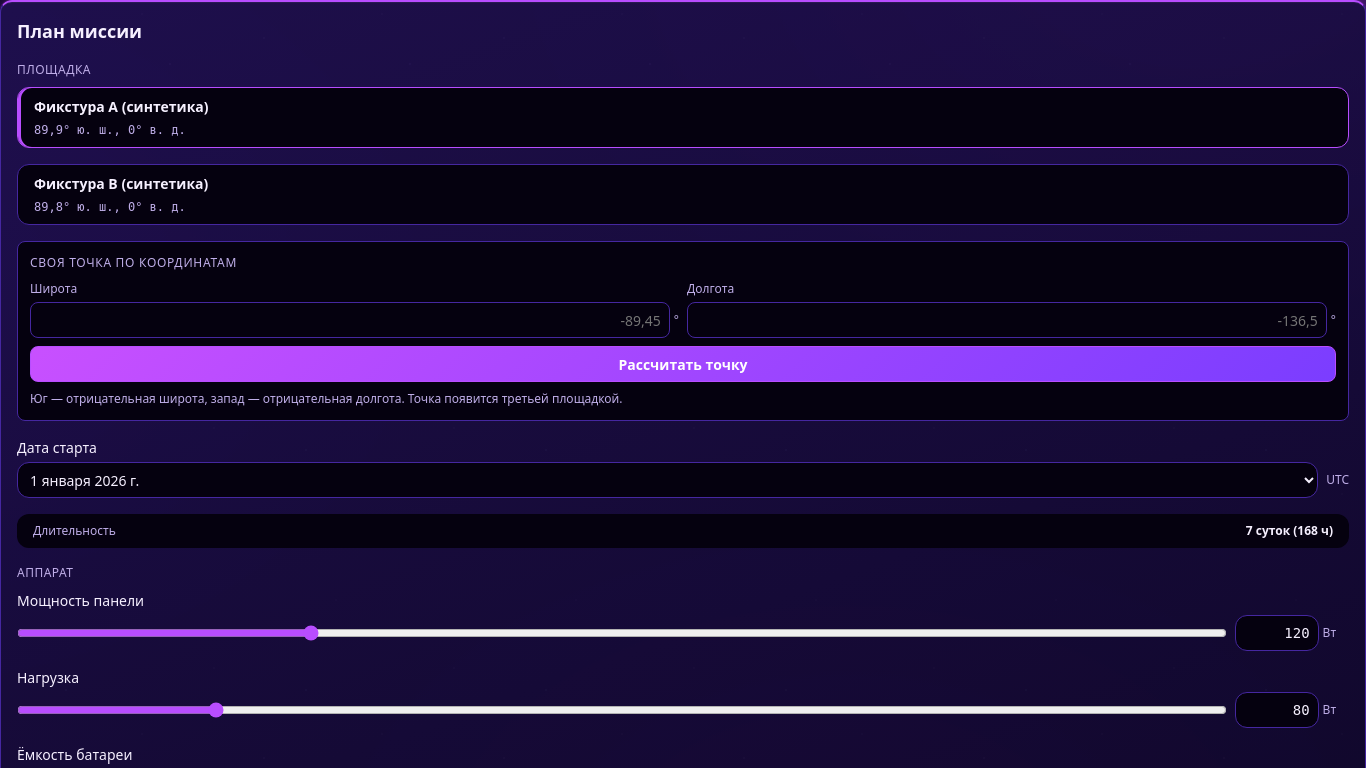
Test: custom point by coordinates › explains a point outside the terrain coverage
The image size is (1366, 768).
Type "10" into the field labelled "Широта" at x=350, y=320, box x1=30 y1=302 x2=670 y2=338
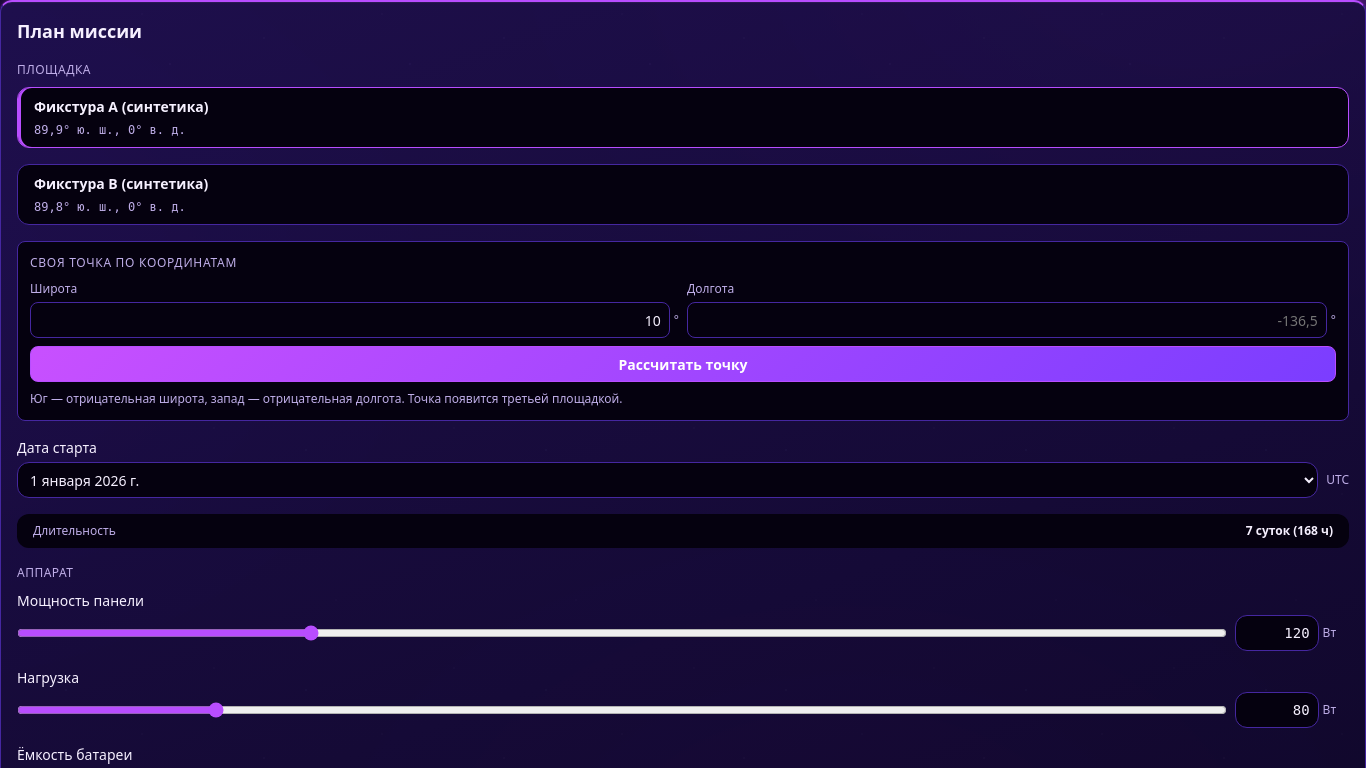
Type "20" into the field labelled "Долгота" at x=1007, y=320, box x1=687 y1=302 x2=1327 y2=338
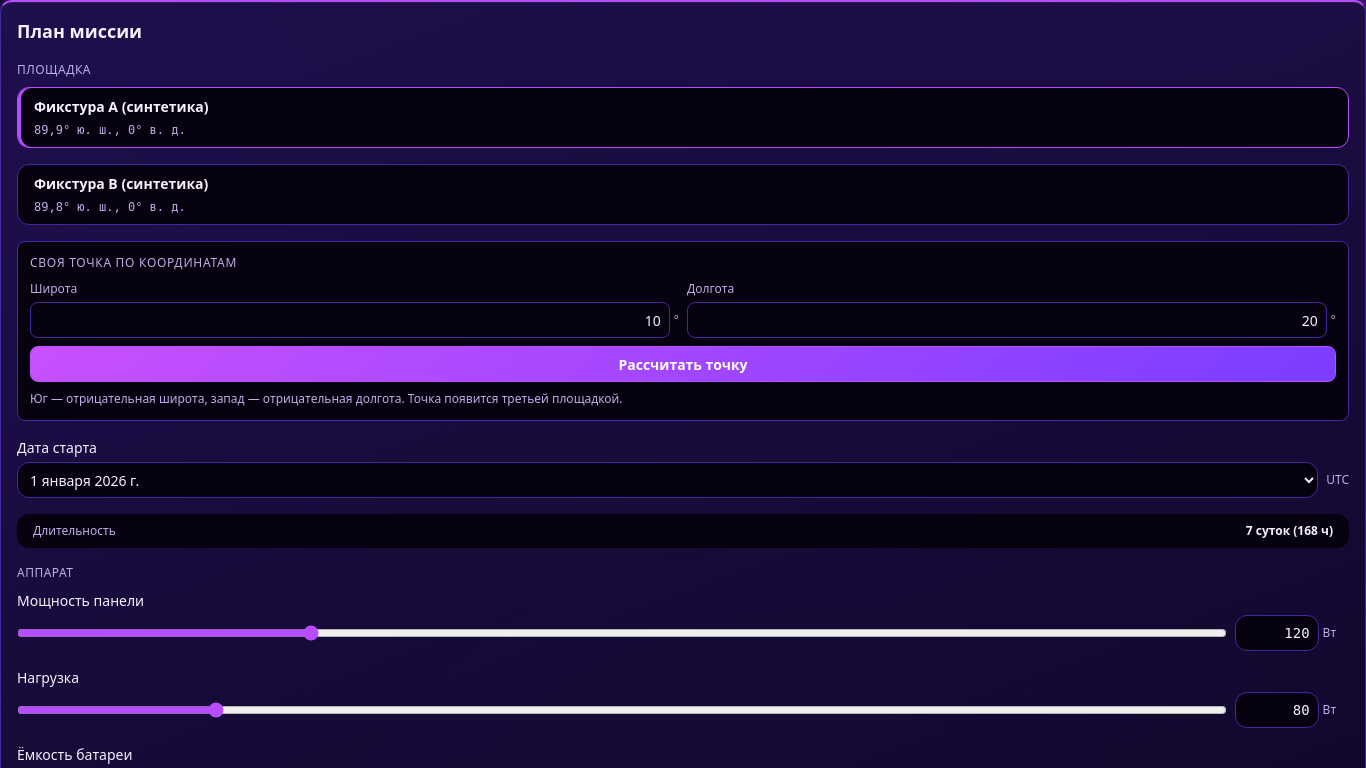
Click the button "Рассчитать точку" at x=683, y=364, box x1=30 y1=346 x2=1336 y2=382
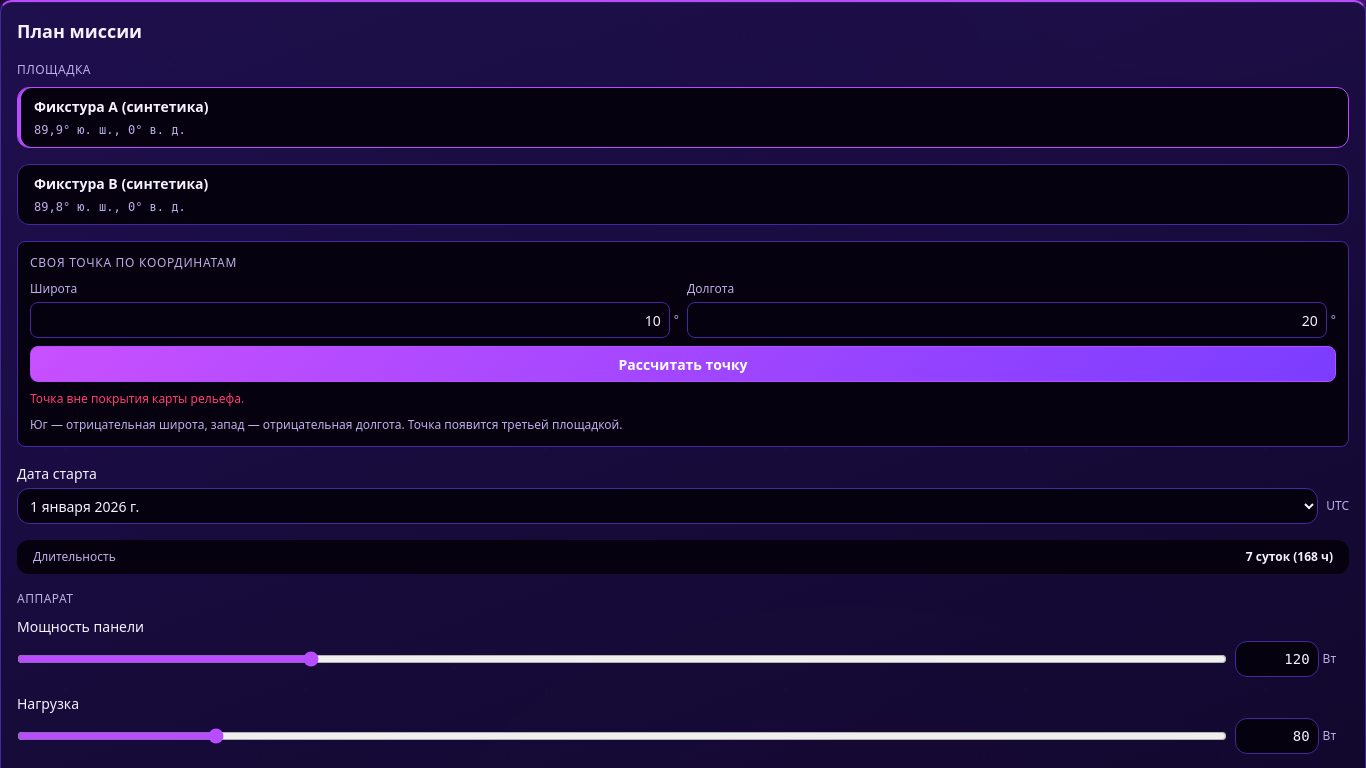
Now the text "Точка вне покрытия карты рельефа." is shown, box x1=30 y1=390 x2=244 y2=407
